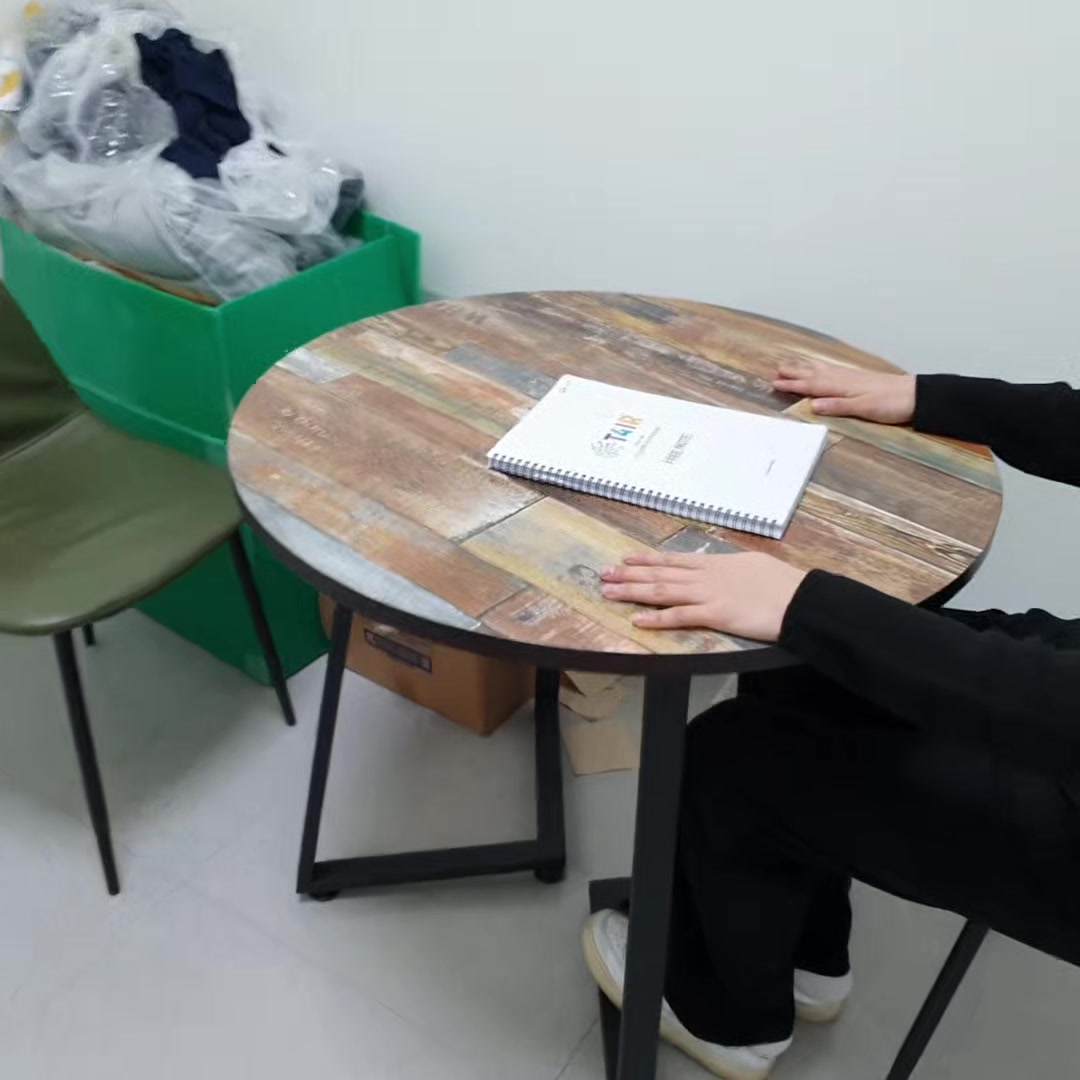book: (481, 369, 835, 555)
